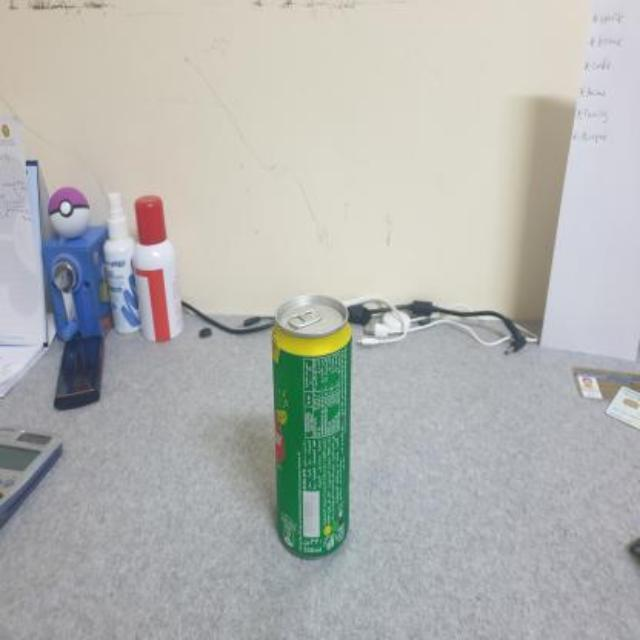metal: (274, 295, 351, 557)
